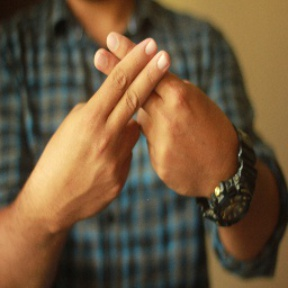F: (60, 27, 207, 166)
